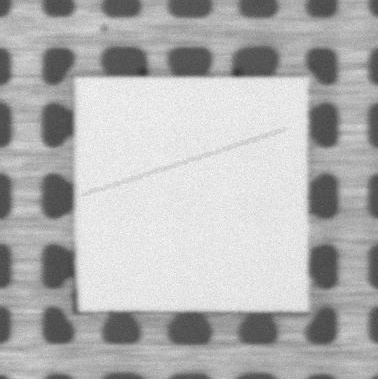DIE_CRACK: (82, 129, 286, 196)
